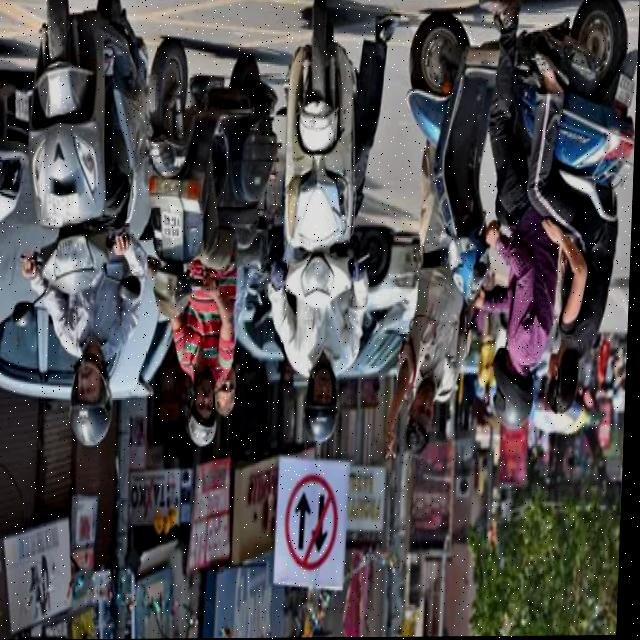plate: (44, 190, 81, 223), (616, 72, 638, 111), (11, 89, 33, 125), (162, 211, 185, 242)
